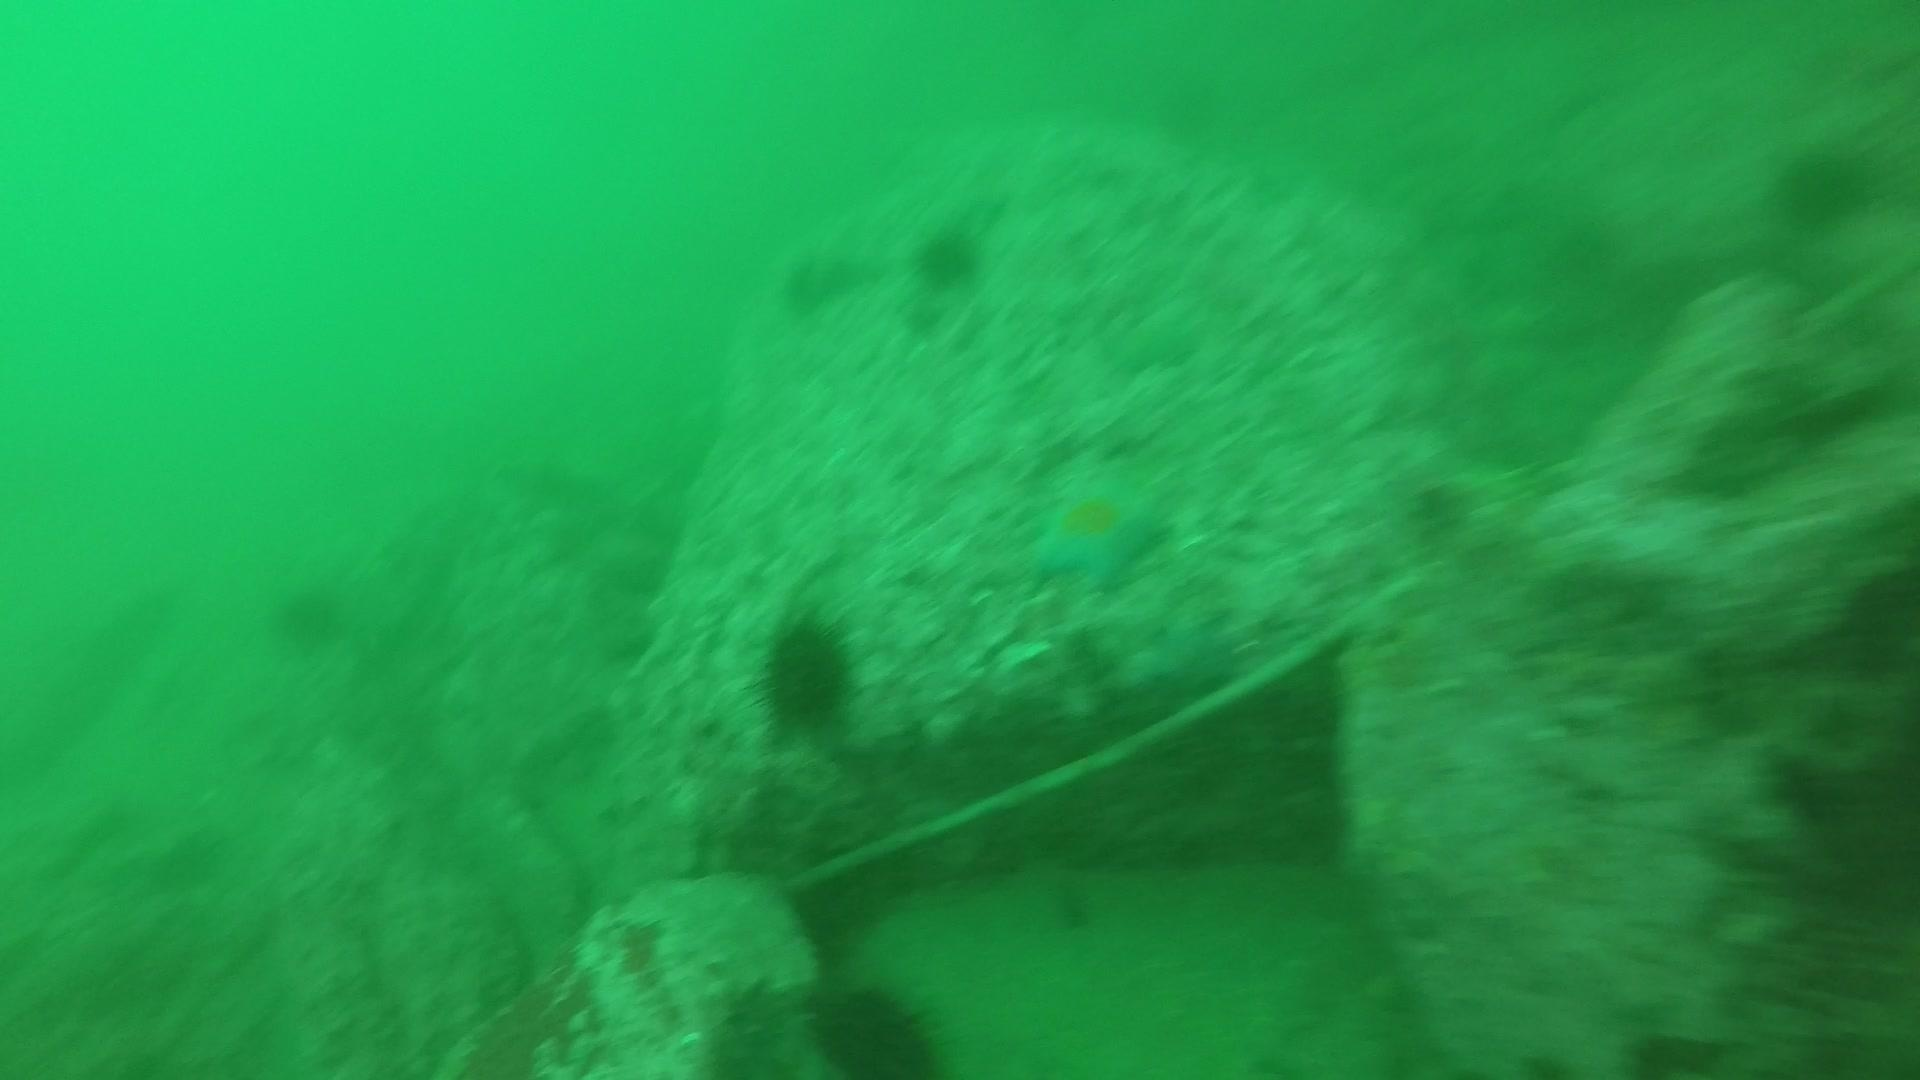echinus: (800, 975, 949, 1077), (749, 608, 862, 740), (1768, 133, 1884, 233), (1834, 558, 1919, 679), (775, 243, 861, 319), (268, 574, 349, 651), (909, 218, 989, 293)
starfish: (1023, 471, 1171, 593)
